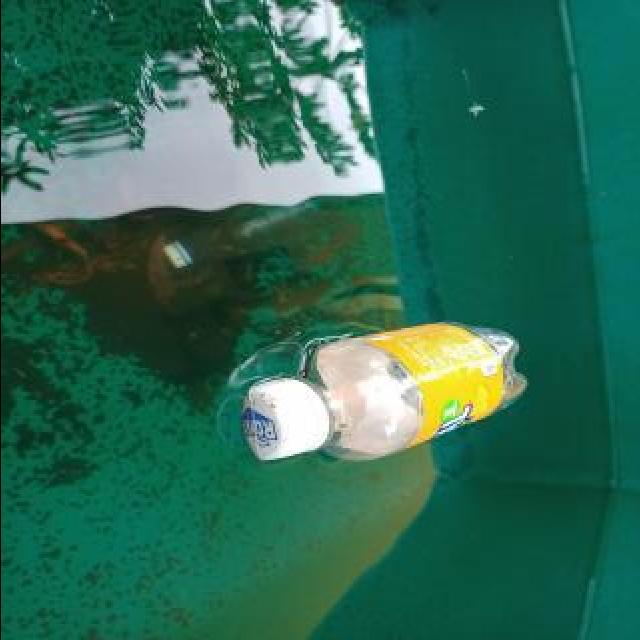Bottle: (229, 318, 523, 464)
